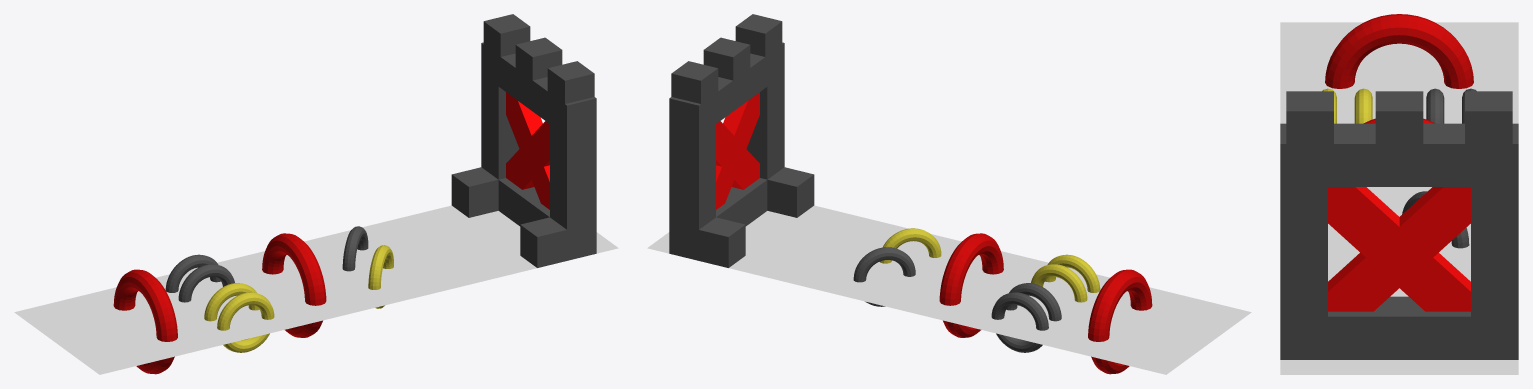
Rendered from Obstacle1.fbx.
3 renders of one model, left to right at view 1: azimuth 30°, elevation 25°; view 2: azimuth 150°, elevation 25°; view 3: azimuth 270°, elevation 25°, orthographic. The views are drawn at different scales.
Parts seen in each view (by area): view 1: Plane, Cube.002, Cube.001, Torus.004, Torus.005, Cube.005, Cube.010, Cube.008, Cube.006, Cube.007, Cube.003, Cube.009 (+8 smaller); view 2: Plane, Cube.001, Cube.002, Torus.004, Torus.005, Cube, Cube.008, Cube.010, Cube.006, Cube.005, Cube.004, Cube.003 (+8 smaller); view 3: Plane, Cube.002, Cube.001, Cube, Cube.006, Cube.003, Cube.005, Torus.004, Cube.004, Cube.007, Cube.009, Torus.006 (+2 smaller).
Part boxes in pixels (x1=…): Plane: x1=14, y1=205, x2=618, y2=374; Cube.002: x1=550, y1=93, x2=596, y2=260; Cube.001: x1=481, y1=42, x2=519, y2=179; Torus.004: x1=113, y1=269, x2=177, y2=374; Torus.005: x1=262, y1=233, x2=326, y2=337; Cube.005: x1=506, y1=92, x2=549, y2=209; Cube.010: x1=451, y1=167, x2=498, y2=217; Cube.008: x1=520, y1=217, x2=566, y2=267; Cube.006: x1=498, y1=53, x2=549, y2=123; Cube.007: x1=547, y1=61, x2=594, y2=103; Cube.003: x1=498, y1=178, x2=549, y2=226; Cube.009: x1=515, y1=37, x2=562, y2=87; Plane: x1=647, y1=205, x2=1251, y2=374; Cube.001: x1=669, y1=93, x2=715, y2=260; Cube.002: x1=746, y1=42, x2=784, y2=179; Torus.004: x1=1088, y1=269, x2=1152, y2=374; Torus.005: x1=939, y1=233, x2=1003, y2=337; Cube: x1=716, y1=92, x2=759, y2=209; Cube.008: x1=767, y1=167, x2=814, y2=217; Cube.010: x1=699, y1=217, x2=745, y2=267; Cube.006: x1=716, y1=53, x2=767, y2=123; Cube.005: x1=716, y1=121, x2=759, y2=189; Cube.004: x1=671, y1=61, x2=718, y2=103; Cube.003: x1=716, y1=178, x2=767, y2=226; Plane: x1=1280, y1=22, x2=1518, y2=374; Cube.002: x1=1280, y1=123, x2=1327, y2=359; Cube.001: x1=1471, y1=123, x2=1518, y2=359; Cube: x1=1328, y1=187, x2=1470, y2=311; Cube.006: x1=1328, y1=123, x2=1470, y2=186; Cube.003: x1=1328, y1=296, x2=1470, y2=359; Cube.005: x1=1328, y1=187, x2=1470, y2=311; Torus.004: x1=1325, y1=14, x2=1473, y2=88; Cube.004: x1=1465, y1=91, x2=1512, y2=154; Cube.007: x1=1286, y1=91, x2=1333, y2=154; Cube.009: x1=1375, y1=91, x2=1423, y2=154; Torus.006: x1=1354, y1=88, x2=1372, y2=123.
Size of the model in its own units: 700 by 292 by 200.
